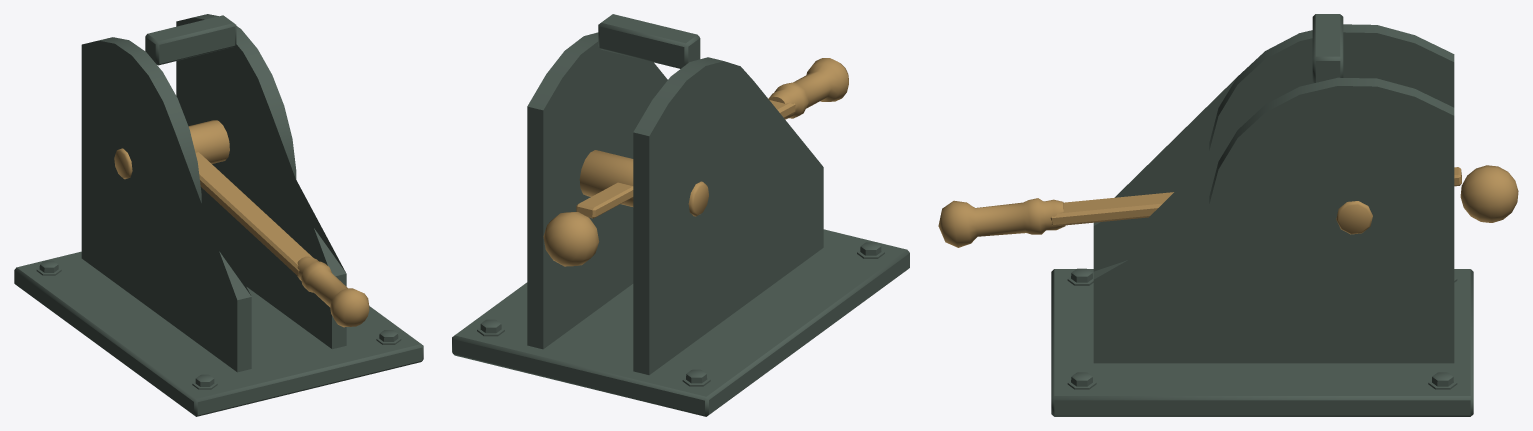
The model's file is master_lever.glb.
The picture shows the model from 3 angles, left to right: view 1: azimuth 30°, elevation 25°; view 2: azimuth 150°, elevation 25°; view 3: azimuth 270°, elevation 25°; orthographic projection. The views are drawn at different scales.
Parts seen in each view (by area): view 1: master_lever_body, IA_master_lever; view 2: master_lever_body, IA_master_lever; view 3: master_lever_body, IA_master_lever.
Part boxes in pixels (x1,y1,x2,y2): master_lever_body: (14,14,423,416); IA_master_lever: (114,120,369,327); master_lever_body: (452,14,909,416); IA_master_lever: (543,58,848,266); master_lever_body: (1051,14,1473,416); IA_master_lever: (938,165,1518,247).
Size of the model in its own units: 0.4 by 0.457 by 0.7556.
